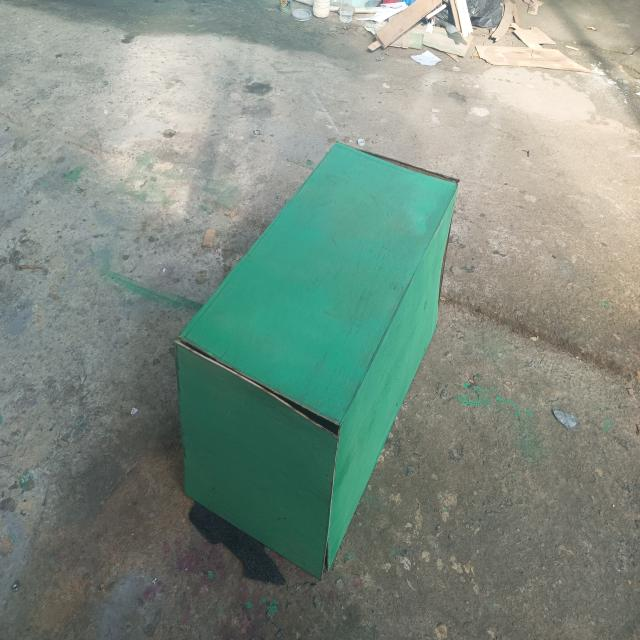green_box: (163, 94, 482, 582)
